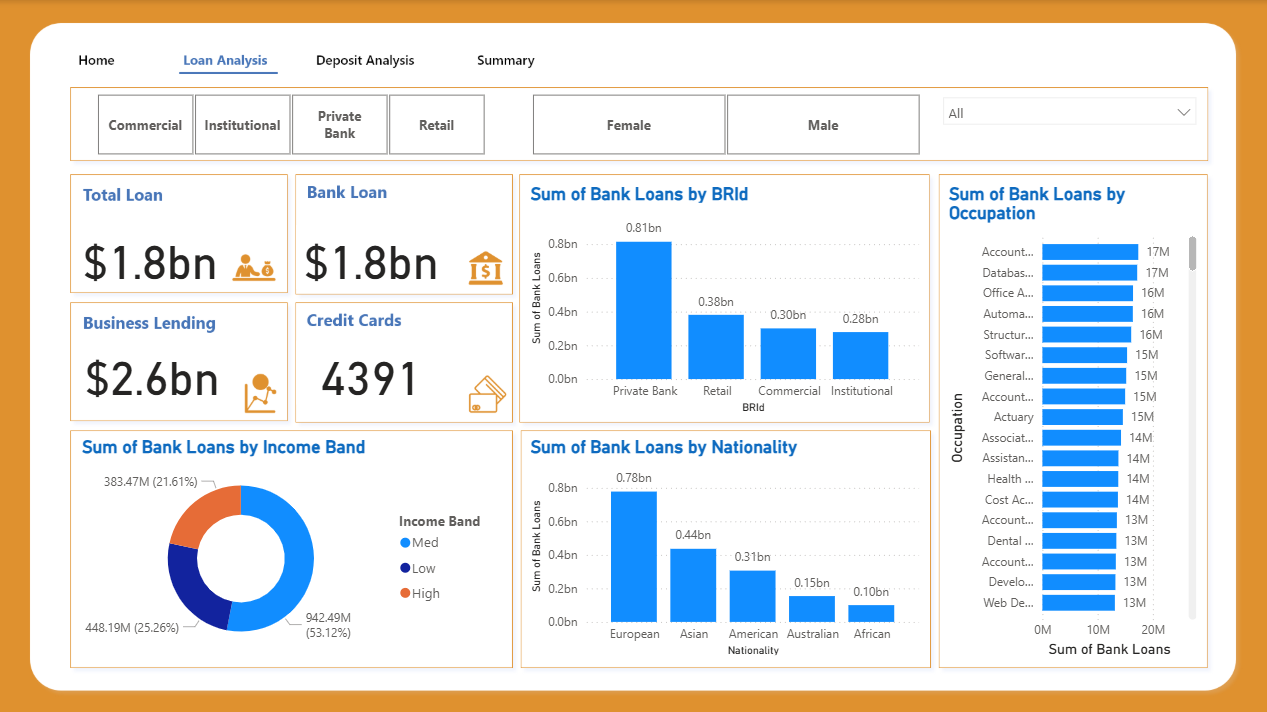

Layout of this report page (visuals, bound fields, positions):
{"tool":"powerbi","page":{"name":"Loan Analysis","canvas":[1280,720],"ordinal":1},"visuals":[{"type":"actionButton","box":[50.7,39.9,99.9,39.9],"z":0},{"type":"actionButton","box":[311.9,39.9,116.8,39.9],"z":1000},{"type":"actionButton","box":[450.1,39.9,116.8,39.9],"z":2000},{"type":"card","fields":{"Values":["Banking.Total Loan"]},"box":[77.7,227.7,149.9,63.9],"z":3000},{"type":"card","fields":{"Values":["Banking.Total Bank Loan"]},"box":[299.6,227.4,150.6,64.5],"z":4000},{"type":"card","fields":{"Values":["Banking.Total Business Lending"]},"box":[78.4,344.1,150.6,64.5],"z":5000},{"type":"card","fields":{"Values":["Banking.Total Credit Cards"]},"box":[299.6,344.1,150.6,64.5],"z":6000},{"type":"donutChart","fields":{"Category":["Banking.Income Band"],"Y":["Sum(Banking.Bank Loans)"]},"box":[78.4,440.9,430.2,225.8],"z":7000},{"type":"clusteredColumnChart","fields":{"Category":["Banking.BRId"],"Y":["Sum(Banking.Bank Loans)"]},"box":[531.6,184.4,402.5,236.6],"z":8000},{"type":"clusteredColumnChart","fields":{"Category":["Banking.Nationality"],"Y":["Sum(Banking.Bank Loans)"]},"box":[531.6,440.9,402.5,225.8],"z":9000},{"type":"clusteredBarChart","fields":{"Category":["Banking.Occupation"],"Y":["Sum(Banking.Bank Loans)"]},"box":[954,184.4,259.6,482.4],"z":10000},{"type":"slicer","fields":{"Values":["Banking.BRId"]},"box":[78.4,92.2,430.2,66.1],"z":11000},{"type":"slicer","fields":{"Values":["Banking.GenderId"]},"box":[517.7,92.2,430.2,66.1],"z":12000},{"type":"slicer","fields":{"Values":["Banking.IAId"]},"box":[947.9,92.2,265.8,66.1],"z":13000}]}

Visuals, with their boxes in screenshot pixels (x1, y1, x2, y2), scaled from the page's 1280x720 canvas onto the 1267x712 screenshot:
actionButton: l=50, t=39, r=149, b=79
actionButton: l=309, t=39, r=424, b=79
actionButton: l=446, t=39, r=561, b=79
card - Banking.Total Loan: l=77, t=225, r=225, b=288
card - Banking.Total Bank Loan: l=297, t=225, r=446, b=289
card - Banking.Total Business Lending: l=78, t=340, r=227, b=404
card - Banking.Total Credit Cards: l=297, t=340, r=446, b=404
donutChart - Banking.Income Band x Sum(Banking.Bank Loans): l=78, t=436, r=503, b=659
clusteredColumnChart - Banking.BRId x Sum(Banking.Bank Loans): l=526, t=182, r=925, b=416
clusteredColumnChart - Banking.Nationality x Sum(Banking.Bank Loans): l=526, t=436, r=925, b=659
clusteredBarChart - Banking.Occupation x Sum(Banking.Bank Loans): l=944, t=182, r=1201, b=659
slicer - Banking.BRId: l=78, t=91, r=503, b=157
slicer - Banking.GenderId: l=512, t=91, r=938, b=157
slicer - Banking.IAId: l=938, t=91, r=1201, b=157
